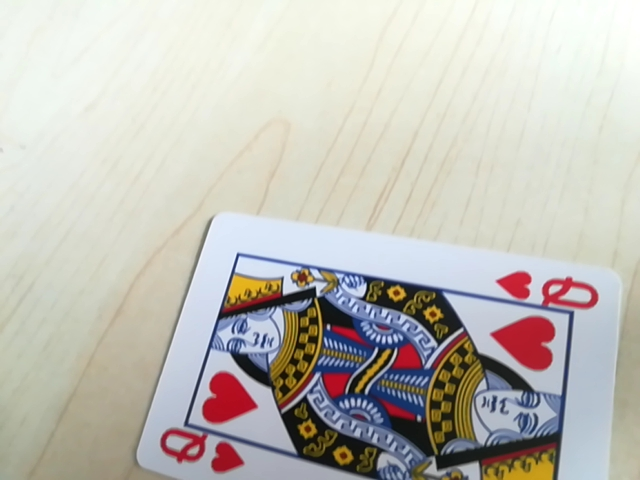hx q: (496, 266, 600, 312), (155, 428, 246, 475)
